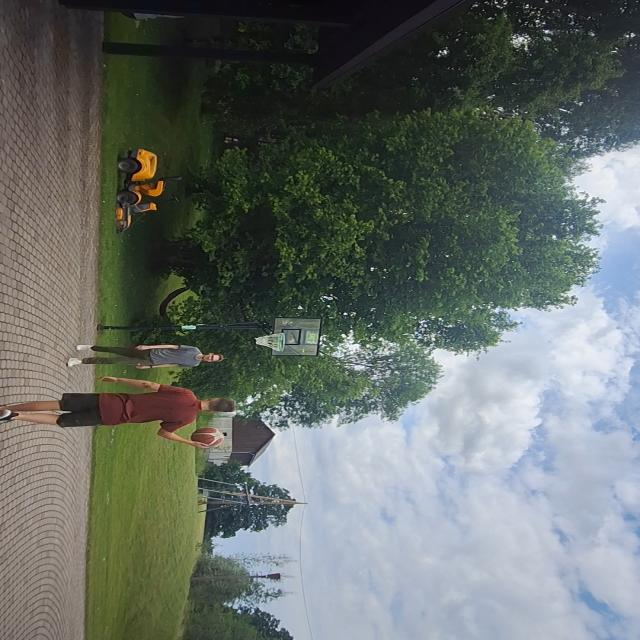ball: (192, 426, 226, 452)
hoop: (251, 331, 289, 353)
player: (1, 375, 241, 449), (62, 340, 227, 374)
